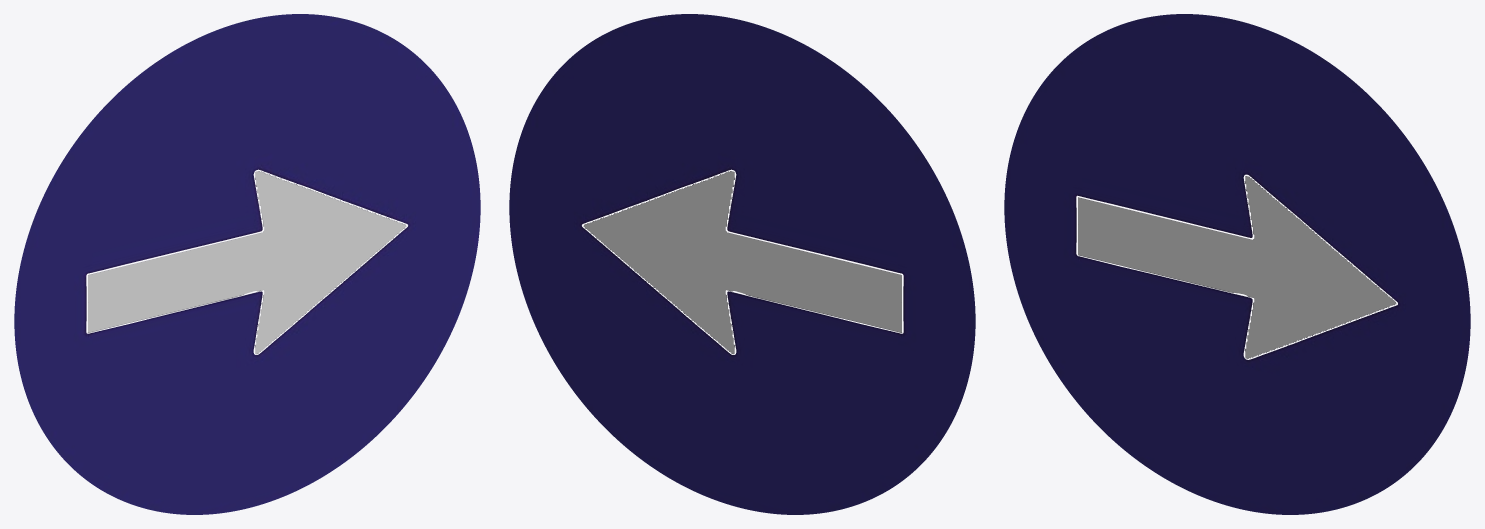
File: saga-mecburi-yon.dae
3 renders of one model, left to right at view 1: azimuth 30°, elevation 25°; view 2: azimuth 150°, elevation 25°; view 3: azimuth 330°, elevation 25°, orthographic.
Parts seen in each view (by area): view 1: Circle; view 2: Circle; view 3: Circle.
Part boxes in pixels (left/top/right/bottom): Circle: left=14, top=14, right=480, bottom=514; Circle: left=509, top=14, right=975, bottom=514; Circle: left=1004, top=14, right=1470, bottom=514.
Bounding box in the file's own units: 0.24 × 1.05e-08 × 0.24.
